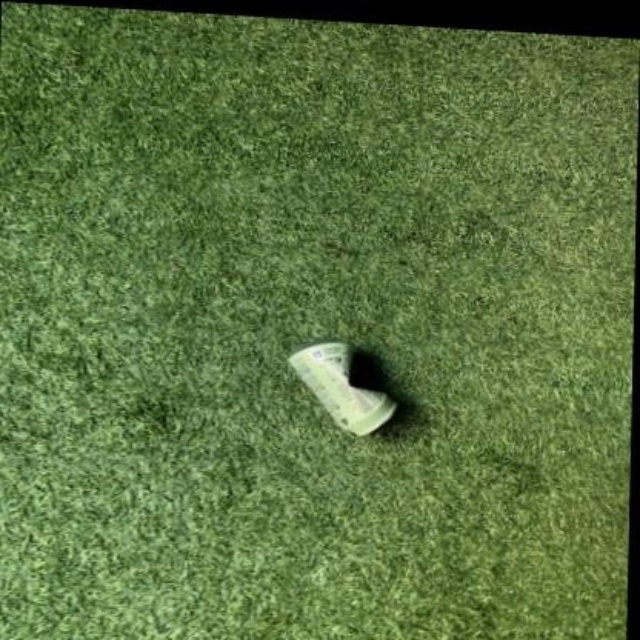trash: (289, 343, 395, 434)
